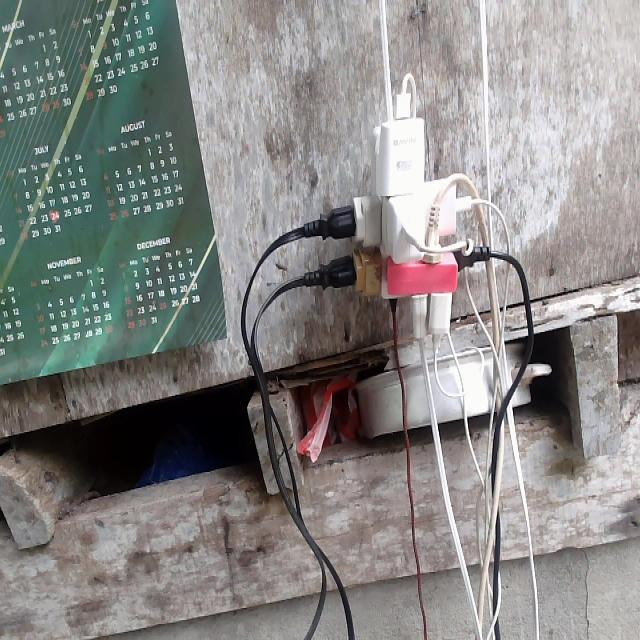-: (317, 82, 487, 342)
